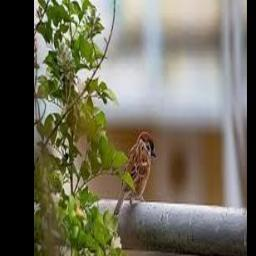Sparrow: (113, 131, 155, 215)
